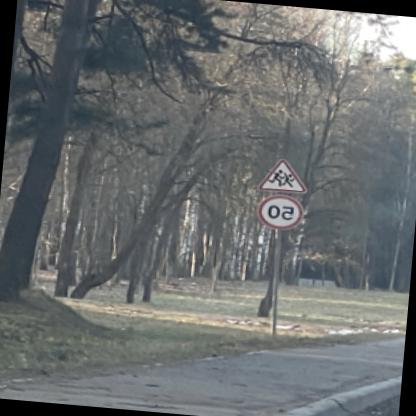speedlimit: (261, 193, 308, 230)
